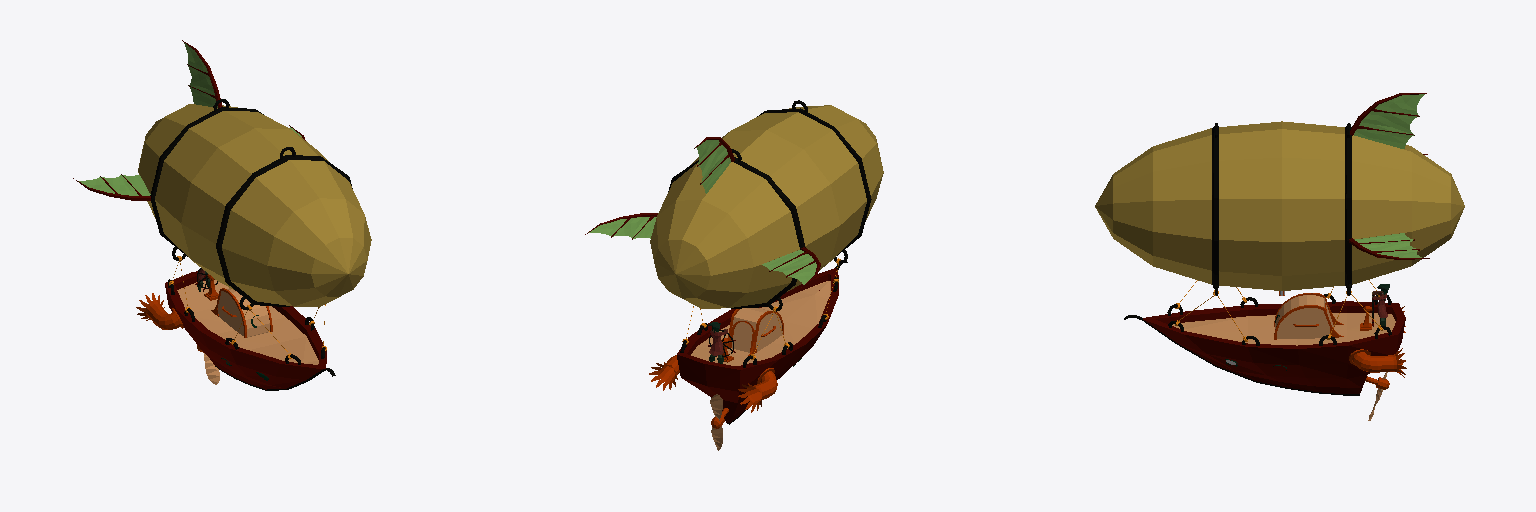
3 views of the same model, side by side, from view 1: azimuth 30°, elevation 25°; view 2: azimuth 150°, elevation 25°; view 3: azimuth 270°, elevation 25° (orthographic).
Parts seen in each view (by area): view 1: paatti_Mesh.006; view 2: paatti_Mesh.006; view 3: paatti_Mesh.006.
Part boxes in pixels (left/top/right/bottom): paatti_Mesh.006: left=73, top=40, right=371, bottom=390; paatti_Mesh.006: left=585, top=100, right=883, bottom=450; paatti_Mesh.006: left=1095, top=93, right=1464, bottom=420.
Size of the model in its own units: 2.93 by 4.21 by 4.34.
Materials: 20 (2 with a texture image).